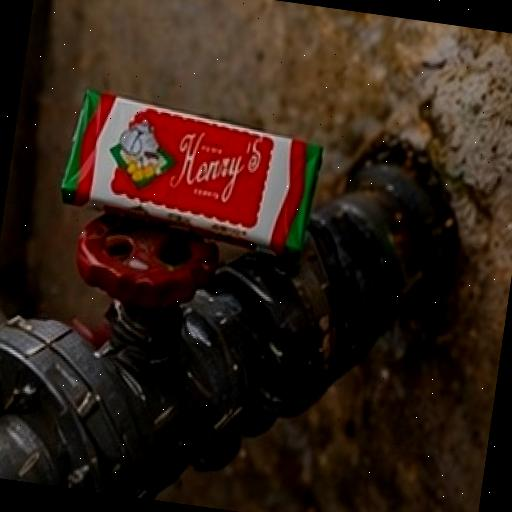henry-s: (0, 20, 370, 376)
